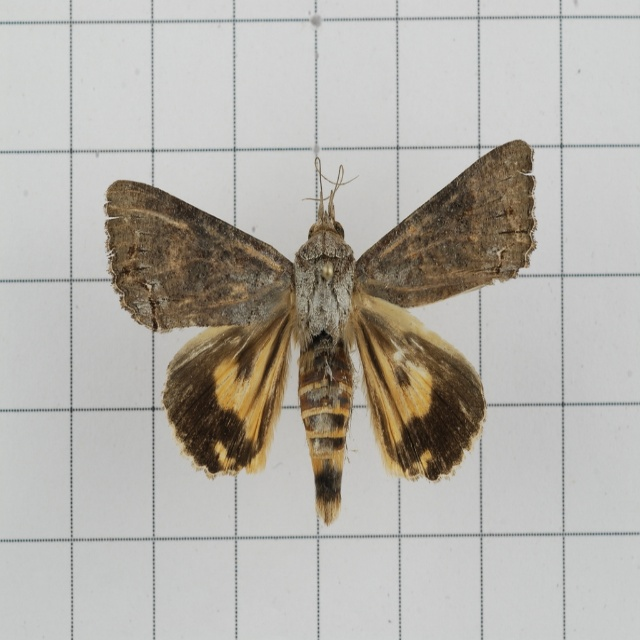Butterfly: (108, 135, 532, 507)
